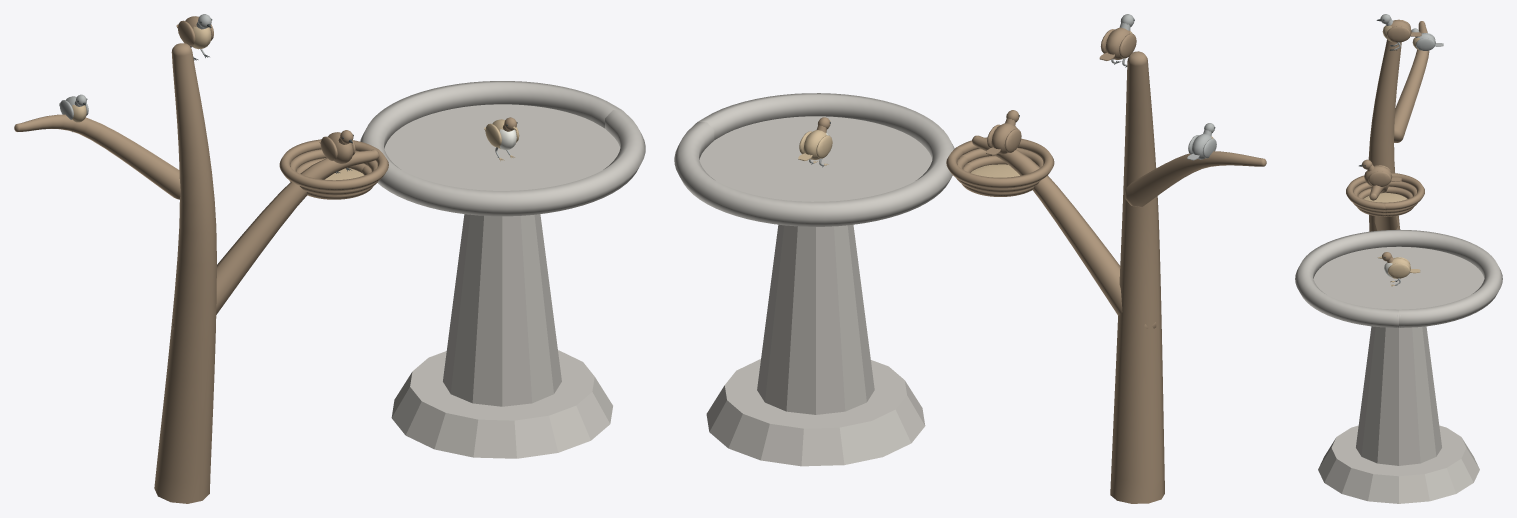
The model's file is birds-and-flying-creatures-mixed-songbird-perch-19cd4fb6__20669.glb.
The picture shows the model from 3 angles, left to right: view 1: azimuth 30°, elevation 25°; view 2: azimuth 150°, elevation 25°; view 3: azimuth 270°, elevation 25°; orthographic projection. The views are drawn at different scales.
Parts seen in each view (by area): view 1: 005-bird-bath/0, 000-bare-perch-branch/0, 006-cup-nest/0; view 2: 005-bird-bath/0, 000-bare-perch-branch/0, 006-cup-nest/0, 001-european-robin/0, 003-house-sparrow/0, 004-goldfinch/0, 002-blue-tit/0; view 3: 005-bird-bath/0, 000-bare-perch-branch/0, 006-cup-nest/0, 001-european-robin/0, 003-house-sparrow/0, 004-goldfinch/0, 002-blue-tit/0, 006-cup-nest/1.
Boxes of the visible parts, x1,y1,x2,y2 form: 005-bird-bath/0: (360, 81, 645, 458); 000-bare-perch-branch/0: (14, 43, 379, 503); 006-cup-nest/0: (279, 139, 388, 199); 005-bird-bath/0: (674, 93, 954, 466); 000-bare-perch-branch/0: (972, 51, 1266, 503); 006-cup-nest/0: (946, 137, 1054, 196); 001-european-robin/0: (986, 110, 1021, 155); 003-house-sparrow/0: (1099, 27, 1136, 60); 004-goldfinch/0: (798, 130, 832, 160); 002-blue-tit/0: (1187, 123, 1216, 160); 005-bird-bath/0: (1295, 229, 1502, 503); 000-bare-perch-branch/0: (1368, 21, 1429, 231); 006-cup-nest/0: (1346, 173, 1424, 216); 001-european-robin/0: (1362, 159, 1401, 186); 003-house-sparrow/0: (1386, 19, 1421, 42); 004-goldfinch/0: (1387, 257, 1420, 278); 002-blue-tit/0: (1411, 28, 1443, 50); 006-cup-nest/1: (1363, 192, 1407, 202).
Bounding box in the file's own units: 1.85 × 1.42 × 0.77.
